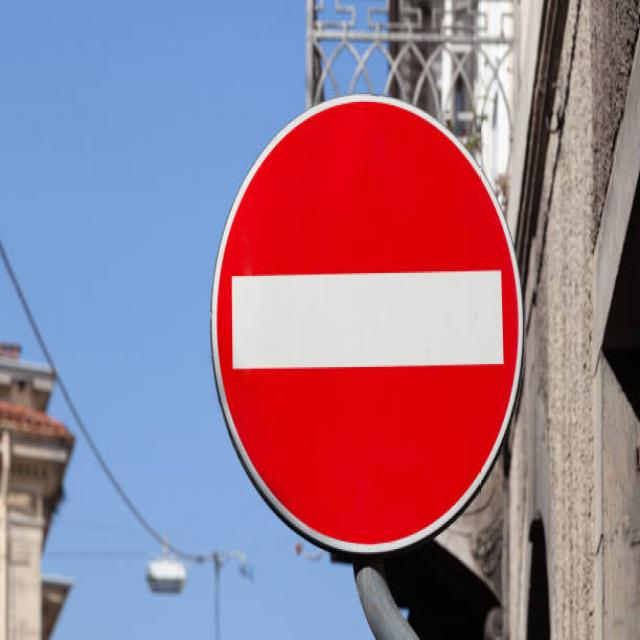do_not_enter: (209, 93, 533, 578)
